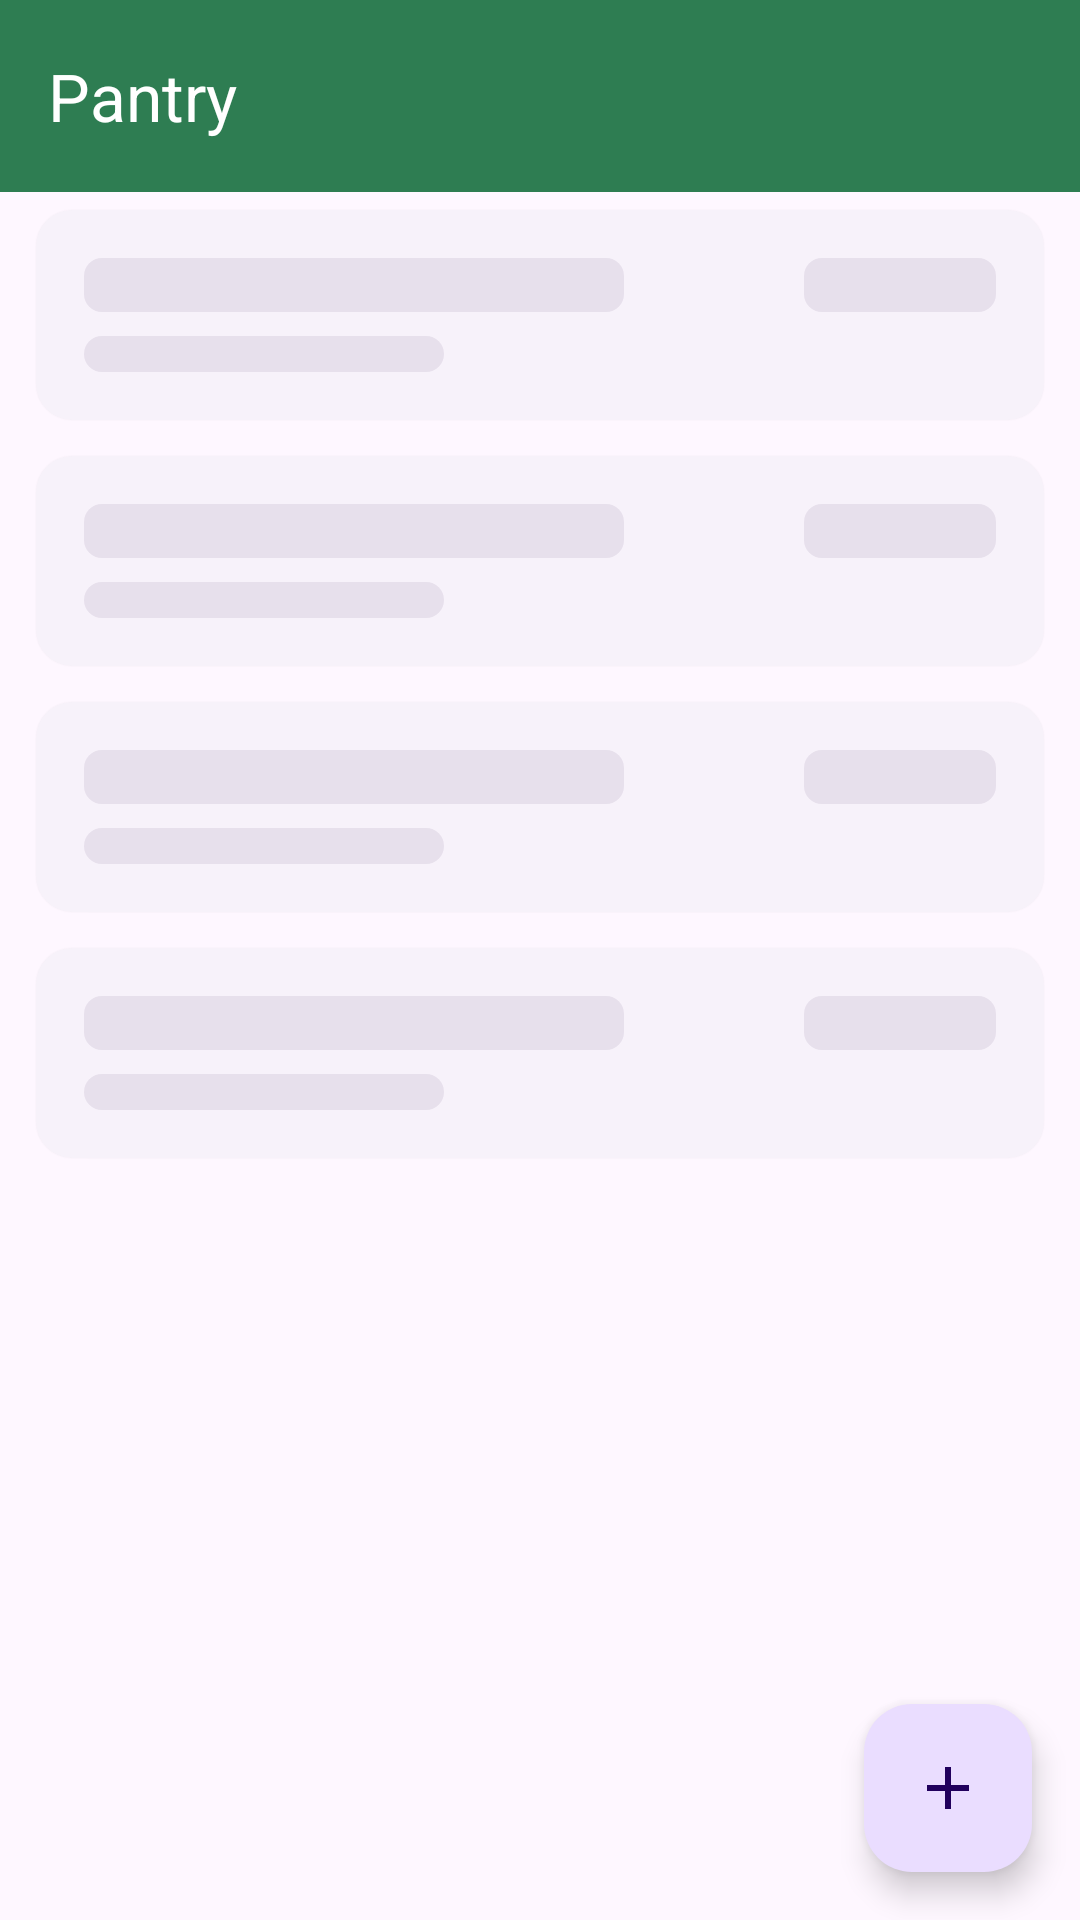

Icons on this 1080px x 1920px Android screen, each with the point to tap as [x,y]:
Add an ingredient: [948,1788]
